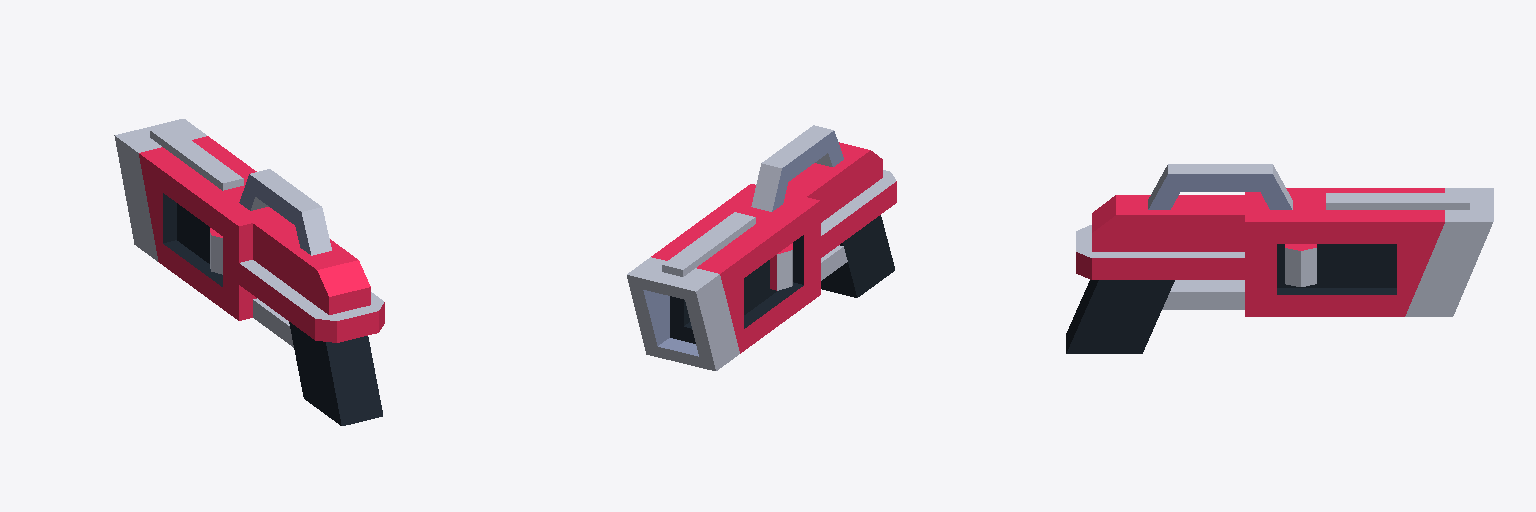
Rendered from blasterH.obj.
3 renders of one model, left to right at view 1: azimuth 30°, elevation 25°; view 2: azimuth 150°, elevation 25°; view 3: azimuth 270°, elevation 25°, orthographic.
Parts seen in each view (by area): view 1: blasterH; view 2: blasterH; view 3: blasterH.
Boxes of the visible parts, x1=… form: blasterH: x1=114, y1=119, x2=384, y2=425; blasterH: x1=627, y1=125, x2=896, y2=370; blasterH: x1=1066, y1=164, x2=1493, y2=353.
Bounding box in the file's own units: 0.1 × 0.24 × 0.5316.